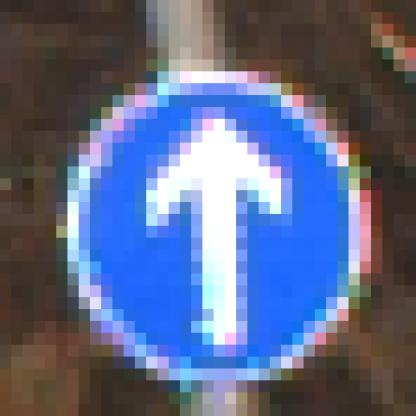AheadOnly: (57, 61, 361, 358)
